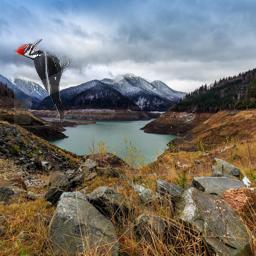Woodpecker: (14, 39, 72, 124)
